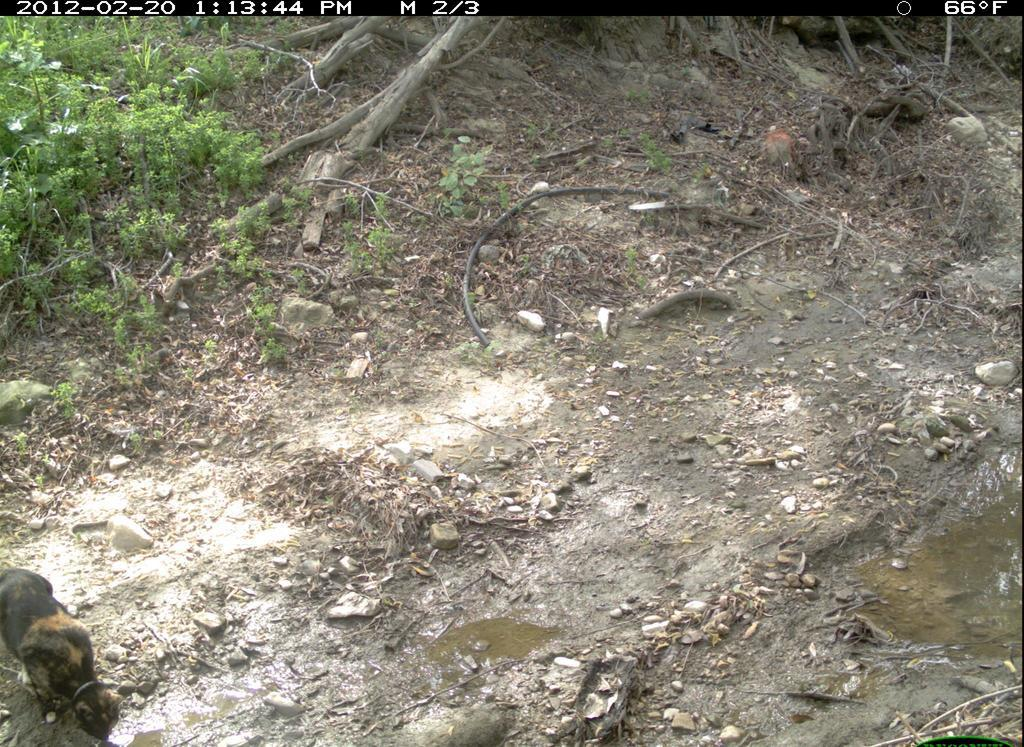cat: (1, 557, 131, 743)
